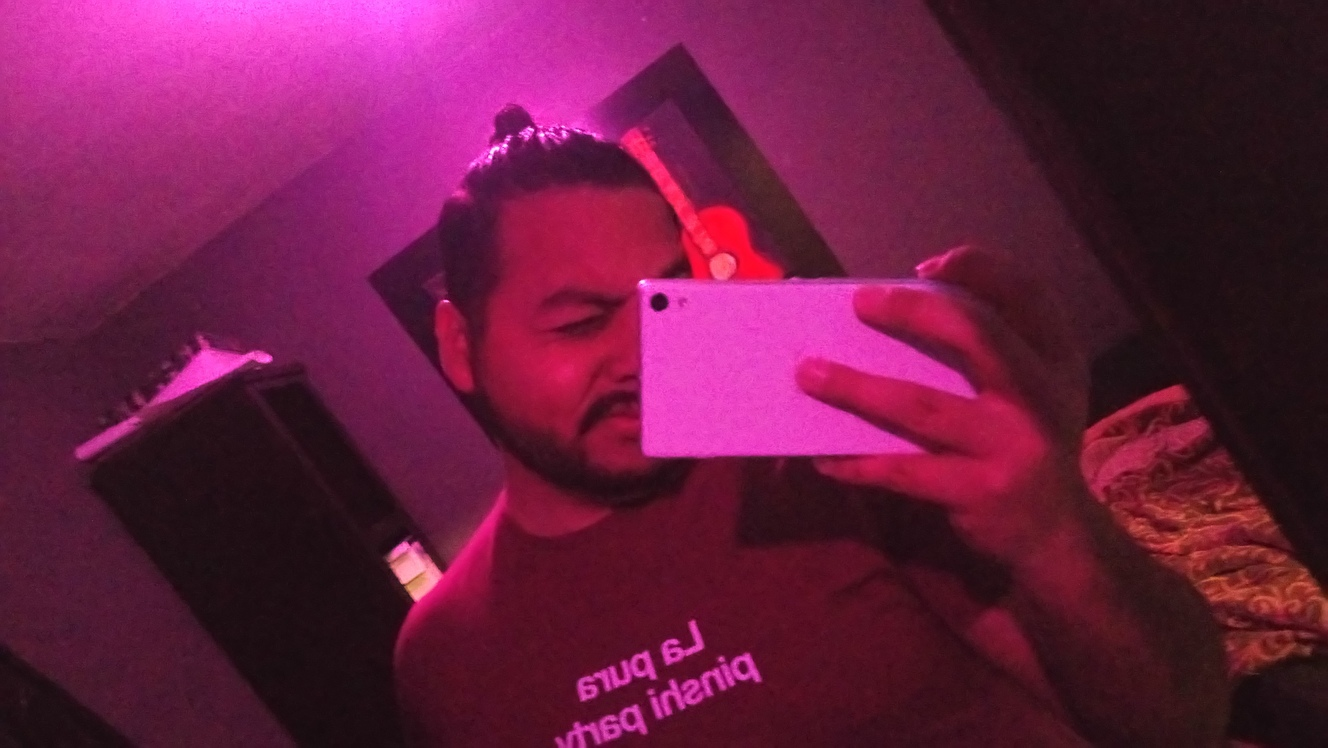Yoshi: (405, 90, 774, 549)
